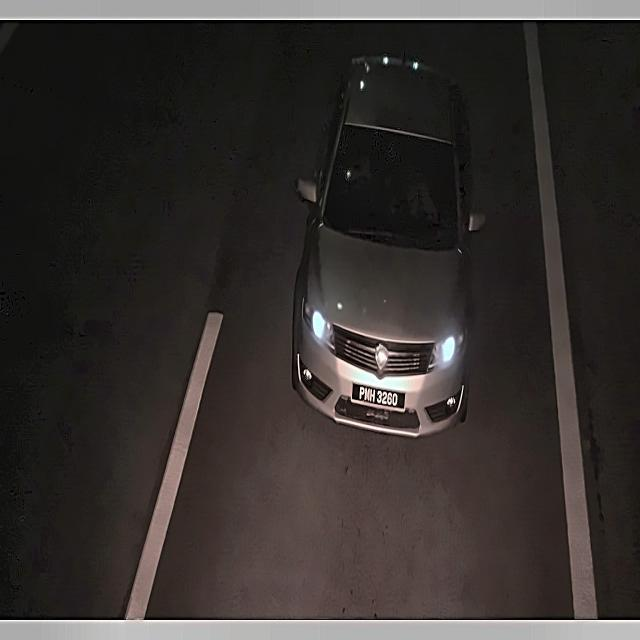car: (349, 381, 408, 416)
